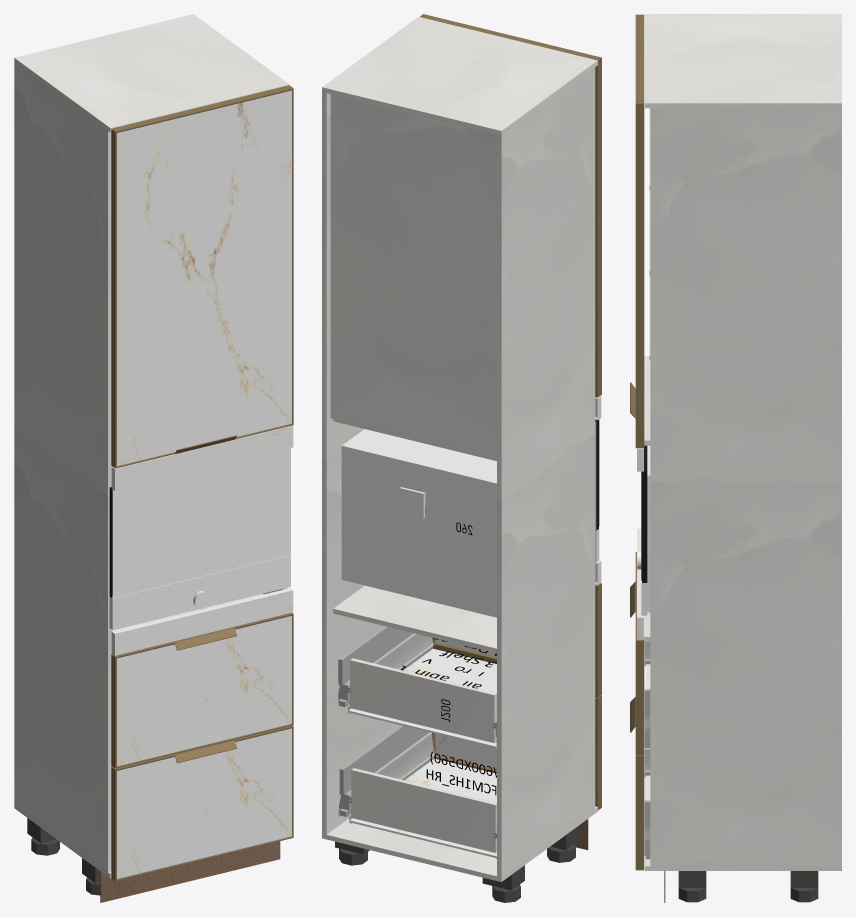
File: TC-MW-TTS-ST-3SX-2HB-RHS-600-2400-560-15.glb
The picture shows the model from 3 angles, left to right: view 1: azimuth 30°, elevation 25°; view 2: azimuth 150°, elevation 25°; view 3: azimuth 270°, elevation 25°; orthographic projection. The views are drawn at different scales.
Parts seen in each view (by area): view 1: TP_node_0, Object_node_71, SKP_Component1_node, Object_node_69, Object_node_67, TP, TP_node_11, TP_node_12, Object_node_77, Extrusion_node_18, Extrusion_node_17, Extrusion_node_4 (+5 smaller); view 2: TP_node_0, TP_node_13, SKP_Component0, TP, TP_node_1, TP_node_5, TP_node_3, TP_node_10, TP_node, TP_node_4, TP_node_2, Extrusion_node_18 (+10 smaller); view 3: TP_node_1, TP, Extrusion_node_16, Extrusion_node_2, Extrusion_node_9, TP_node, Extrusion_node_17, SKP_Component0_node, SKP_Component0, TP_node_9, Plate_node_1, Plate_node.
Part boxes in pixels (box(x1,y1,x2,y2)): TP_node_0: box(14, 63, 112, 871); Object_node_71: box(117, 90, 291, 465); SKP_Component1_node: box(109, 448, 290, 629); Object_node_69: box(117, 615, 291, 766); Object_node_67: box(117, 728, 291, 878); TP: box(14, 14, 289, 132); TP_node_11: box(113, 590, 293, 655); TP_node_12: box(113, 425, 293, 490); Object_node_77: box(100, 841, 280, 902); Extrusion_node_18: box(111, 129, 116, 468); Extrusion_node_17: box(111, 85, 293, 132); Extrusion_node_4: box(111, 767, 116, 881); TP_node_0: box(497, 67, 595, 877); TP_node_13: box(330, 94, 496, 458); SKP_Component0: box(341, 429, 496, 617); TP: box(322, 16, 597, 135); TP_node_1: box(322, 92, 398, 834); TP_node_5: box(350, 658, 496, 743); TP_node_3: box(351, 768, 496, 852); TP_node_10: box(333, 582, 595, 653); TP_node: box(322, 806, 597, 881); TP_node_4: box(348, 648, 496, 748); TP_node_2: box(350, 758, 496, 857); Extrusion_node_18: box(595, 58, 601, 397); TP_node_1: box(650, 108, 841, 866); TP: box(645, 14, 841, 108); Extrusion_node_16: box(635, 103, 644, 448); Extrusion_node_2: box(635, 756, 644, 870); Extrusion_node_9: box(635, 641, 644, 755); TP_node: box(645, 777, 841, 870); Extrusion_node_17: box(635, 14, 644, 103); SKP_Component0_node: box(641, 445, 647, 582); SKP_Component0: box(647, 445, 650, 612); TP_node_9: box(644, 356, 650, 445); Plate_node_1: box(678, 871, 706, 887); Plate_node: box(790, 871, 818, 887).
Size of what is drawn, in the model's own units: 0.6 by 2.5 by 0.6.
Materials: 10 (3 with a texture image).
